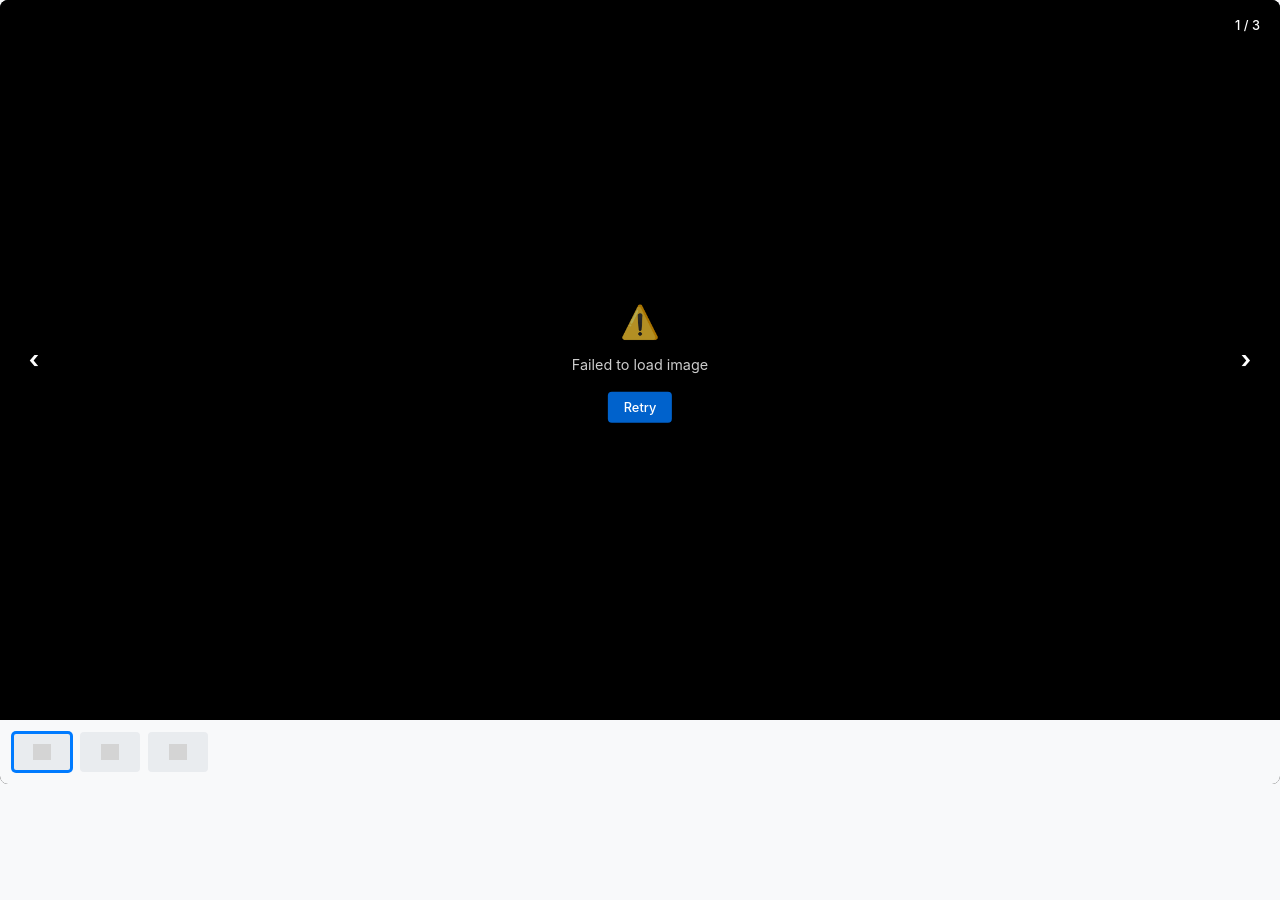
Test case: ImageCarousel Component - Error Handling › Retry Mechanism › should allow manual retry
This screenshot has width=1280, height=900.
Click the button "Retry".
click(640, 407)  # box [608,391,672,422]
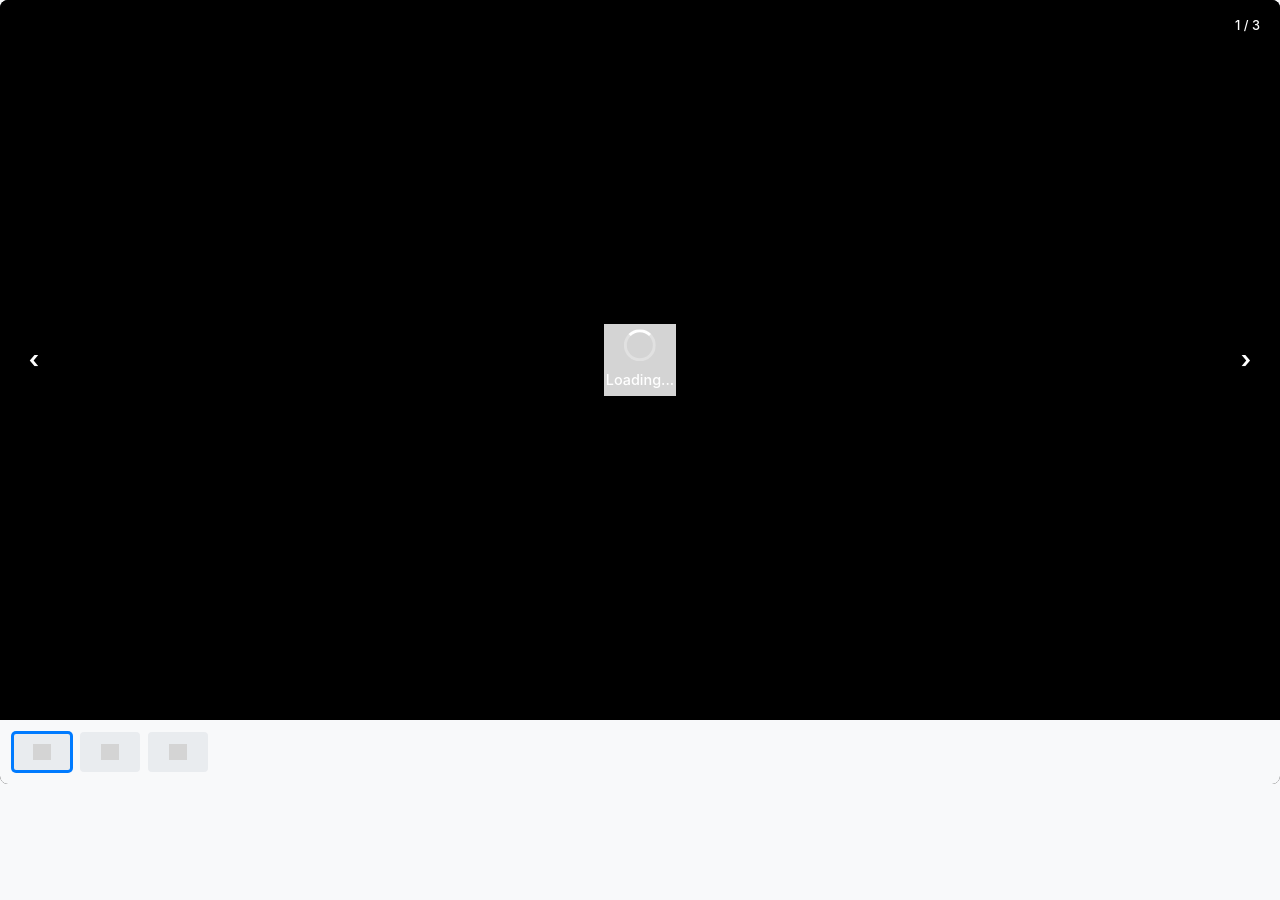
Expected: the text "Loading..." is shown, [606,369,674,391]
